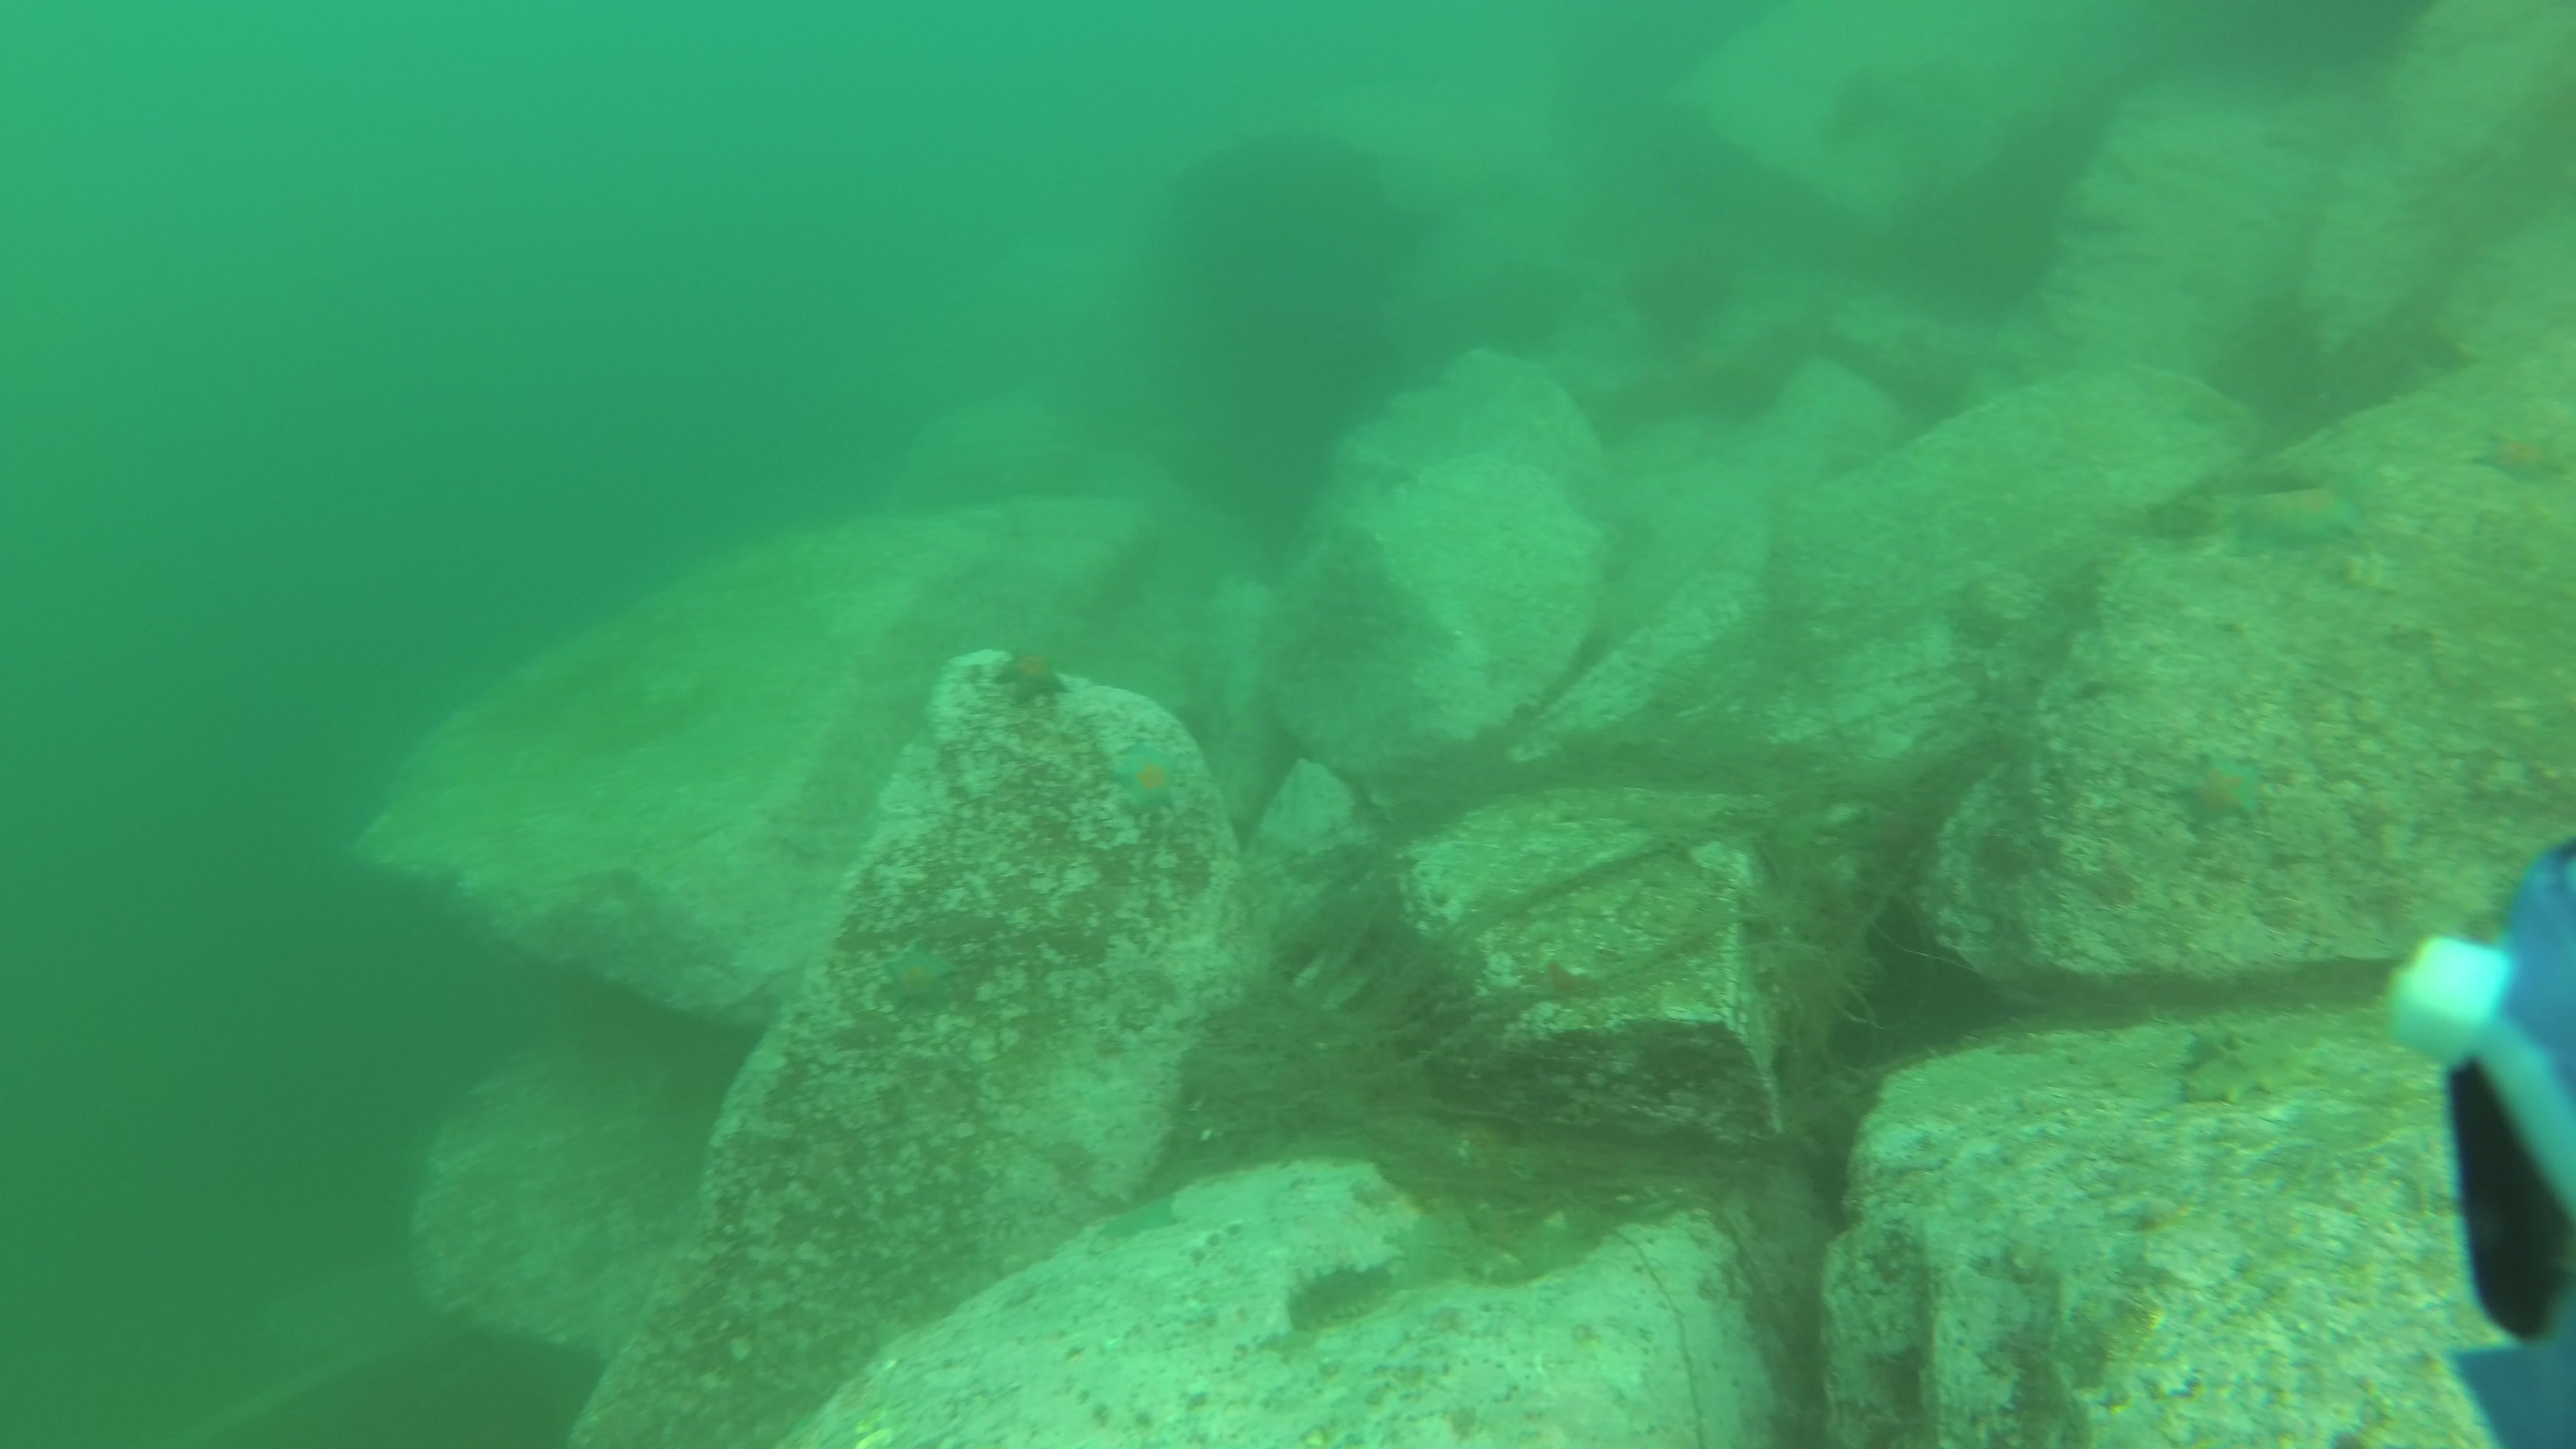holothurian: (2174, 1035, 2321, 1113), (1277, 1261, 1407, 1339)
starfish: (2220, 478, 2371, 554), (2167, 748, 2272, 835), (876, 939, 970, 1017), (1102, 740, 1189, 821), (2472, 426, 2576, 492), (989, 642, 1074, 709)
